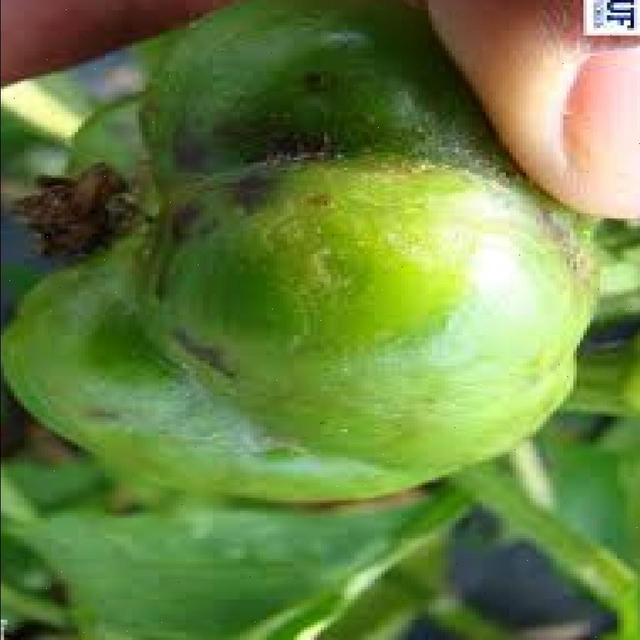Spotted wilt Virus Fruit: (0, 113, 11, 400)
